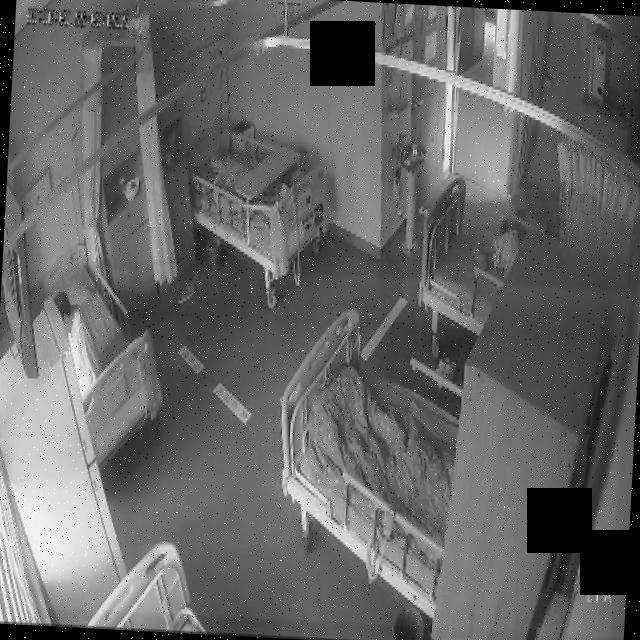bed: (276, 314, 466, 588), (43, 245, 168, 472), (184, 124, 332, 279), (415, 172, 518, 334)
patient: (48, 287, 106, 399)
sit: (48, 286, 106, 400)
